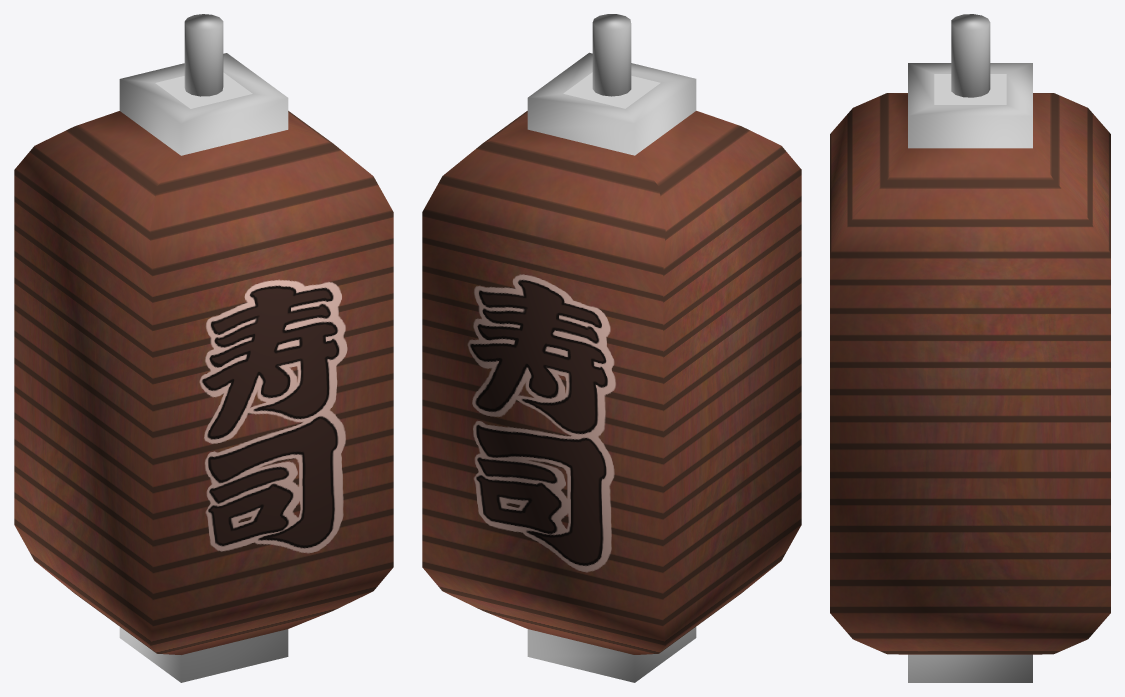
The model's file is SushiLantern.fbx.
3 views of the same model, side by side, from view 1: azimuth 30°, elevation 25°; view 2: azimuth 150°, elevation 25°; view 3: azimuth 270°, elevation 25° (orthographic).
Parts seen in each view (by area): view 1: SushiLantern, SushiLanternTop; view 2: SushiLantern, SushiLanternTop; view 3: SushiLantern, SushiLanternTop.
Boxes of the visible parts, left/top/right/bottom form: SushiLantern: left=14, top=53, right=393, bottom=682; SushiLanternTop: left=184, top=14, right=223, bottom=96; SushiLantern: left=422, top=52, right=801, bottom=682; SushiLanternTop: left=592, top=14, right=631, bottom=96; SushiLantern: left=830, top=63, right=1110, bottom=682; SushiLanternTop: left=951, top=14, right=990, bottom=97.
Size of the model in its own units: 118 by 291 by 117.
